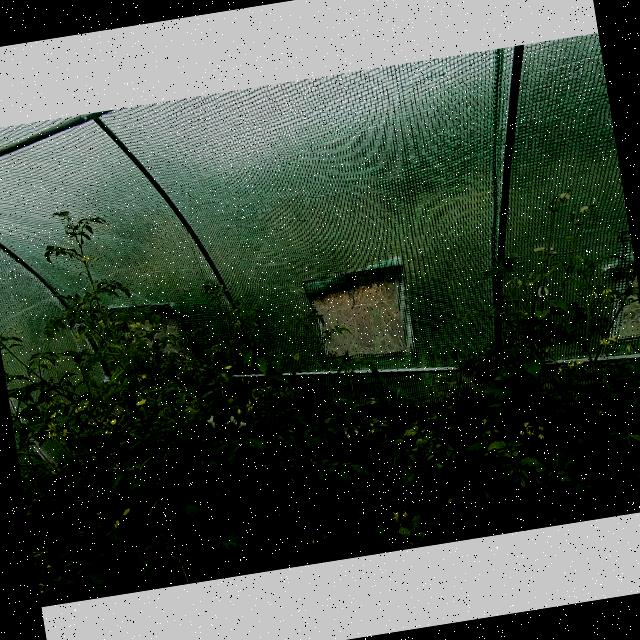Flowers: (72, 400, 92, 415), (599, 335, 621, 347), (534, 423, 548, 441), (524, 420, 536, 437), (45, 420, 60, 432), (48, 398, 66, 408), (578, 204, 592, 216), (560, 191, 572, 203), (533, 246, 547, 256), (46, 431, 60, 441), (244, 399, 254, 413), (111, 518, 122, 530), (600, 287, 614, 296), (60, 428, 72, 438), (128, 321, 143, 329), (342, 427, 352, 439), (135, 398, 148, 407), (556, 364, 566, 374), (482, 416, 492, 426), (121, 507, 132, 516), (392, 512, 401, 522), (223, 364, 235, 371), (626, 342, 634, 352), (516, 278, 524, 288), (48, 411, 58, 419), (235, 406, 243, 416), (110, 418, 119, 426), (576, 359, 586, 366), (402, 510, 409, 520), (352, 425, 359, 435), (528, 272, 536, 280), (140, 374, 148, 382), (369, 428, 377, 436), (568, 362, 575, 371), (518, 429, 526, 436), (368, 422, 376, 428), (528, 280, 534, 287)
